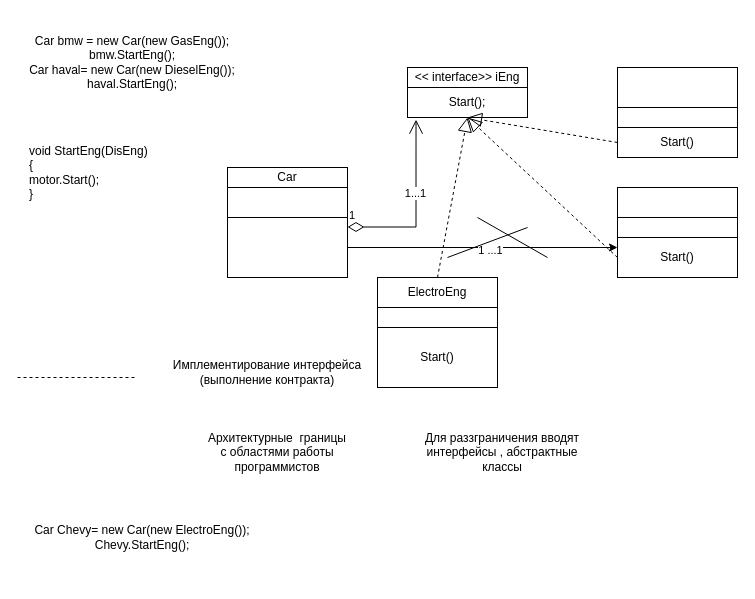
Some shapes in this 755 by 599 pixel diagram are drawn without their labels. Here are the shapes that lost their labels. From the top down, the centre of each, then its label:
At pixel 677 87: "GasEng".
At pixel 287 202: "motor: GasEngine iEng".
At pixel 677 202: "DisEng".
At pixel 287 247: "StartEngine(motor)".
